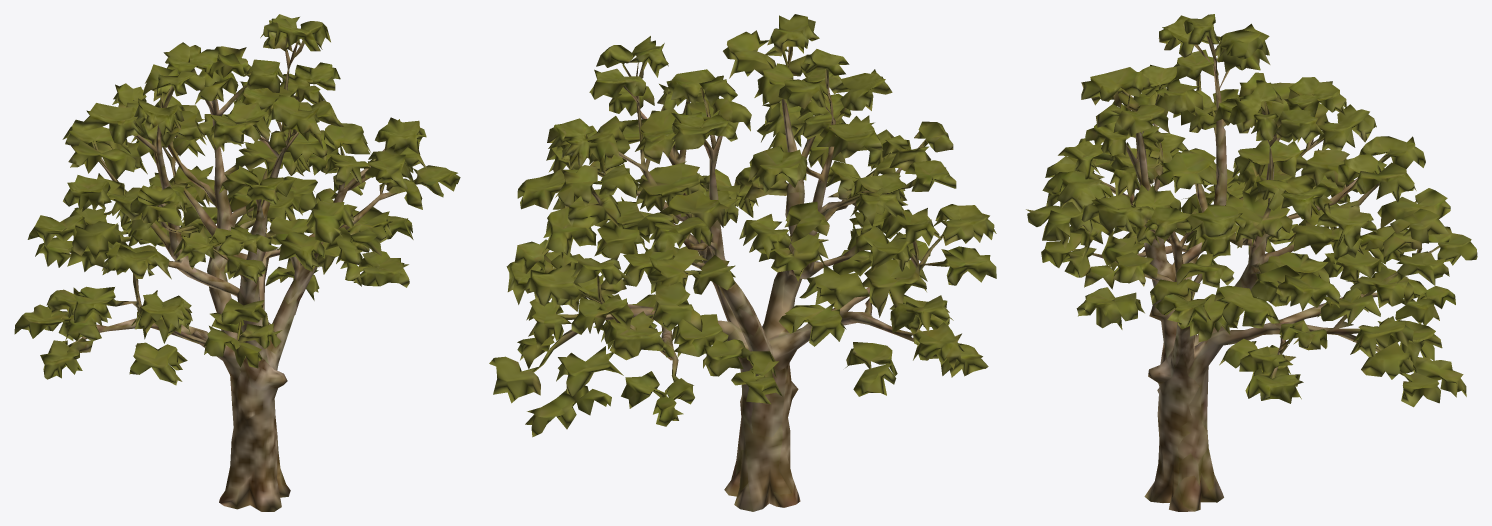
The model's file is tree-01-plane-green.glb.
3 views of the same model, side by side, from view 1: azimuth 30°, elevation 25°; view 2: azimuth 150°, elevation 25°; view 3: azimuth 270°, elevation 25° (orthographic). The views are drawn at different scales.
Parts seen in each view (by area): view 1: tripo_node_5fb68bfa-a73e-44a5-83ae-fa2af5007a8b; view 2: tripo_node_5fb68bfa-a73e-44a5-83ae-fa2af5007a8b; view 3: tripo_node_5fb68bfa-a73e-44a5-83ae-fa2af5007a8b.
Boxes of the visible parts, x1=… form: tripo_node_5fb68bfa-a73e-44a5-83ae-fa2af5007a8b: x1=14, y1=14, x2=460, y2=511; tripo_node_5fb68bfa-a73e-44a5-83ae-fa2af5007a8b: x1=489, y1=14, x2=996, y2=511; tripo_node_5fb68bfa-a73e-44a5-83ae-fa2af5007a8b: x1=1026, y1=14, x2=1477, y2=511.
Size of the model in its own units: 0.998 by 1 by 0.9188.
Materials: 1 (1 with a texture image).
